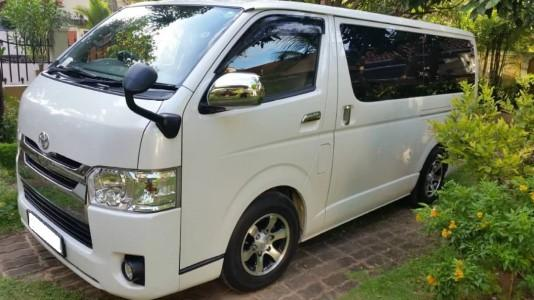van: (15, 1, 477, 300)
